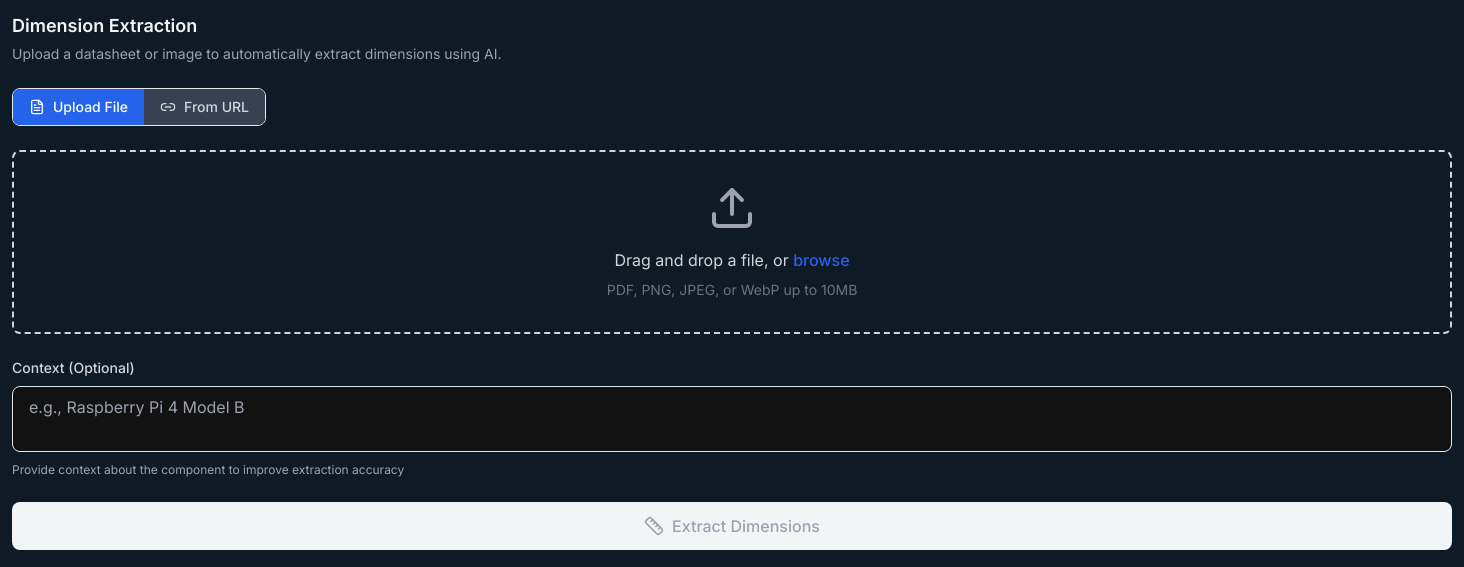
Test case: DimensionExtractor › Mode Toggle › switches back to file mode
Click the button "From URL".
click(204, 107)  # box [144,89,265,125]
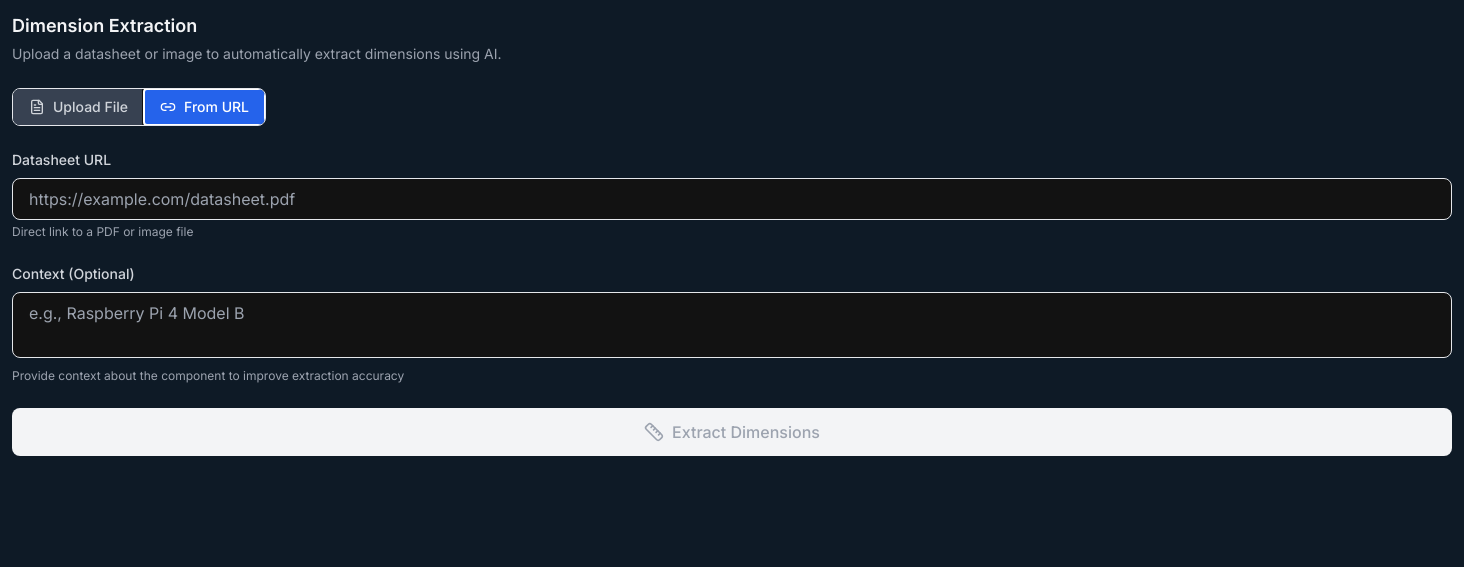
Click the button "Upload File".
click(78, 107)  # box [13,89,144,125]
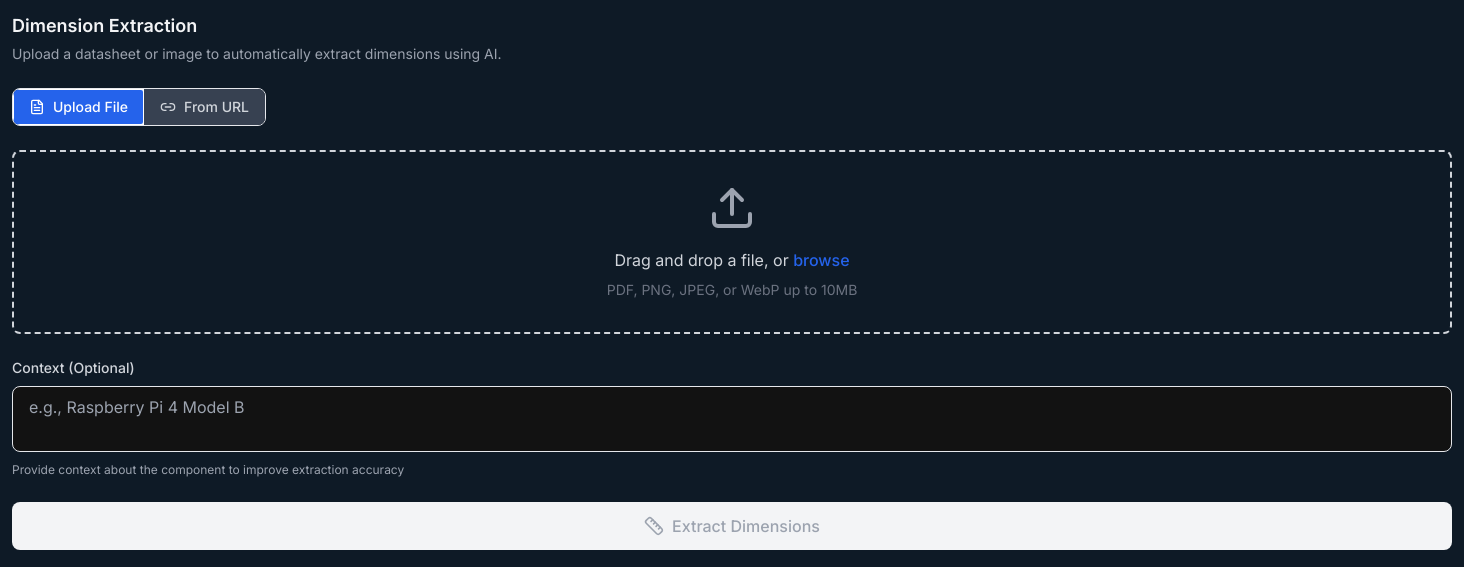
Result: the text "Drag and drop a file, or browse" is shown at [614,250,850,270]
